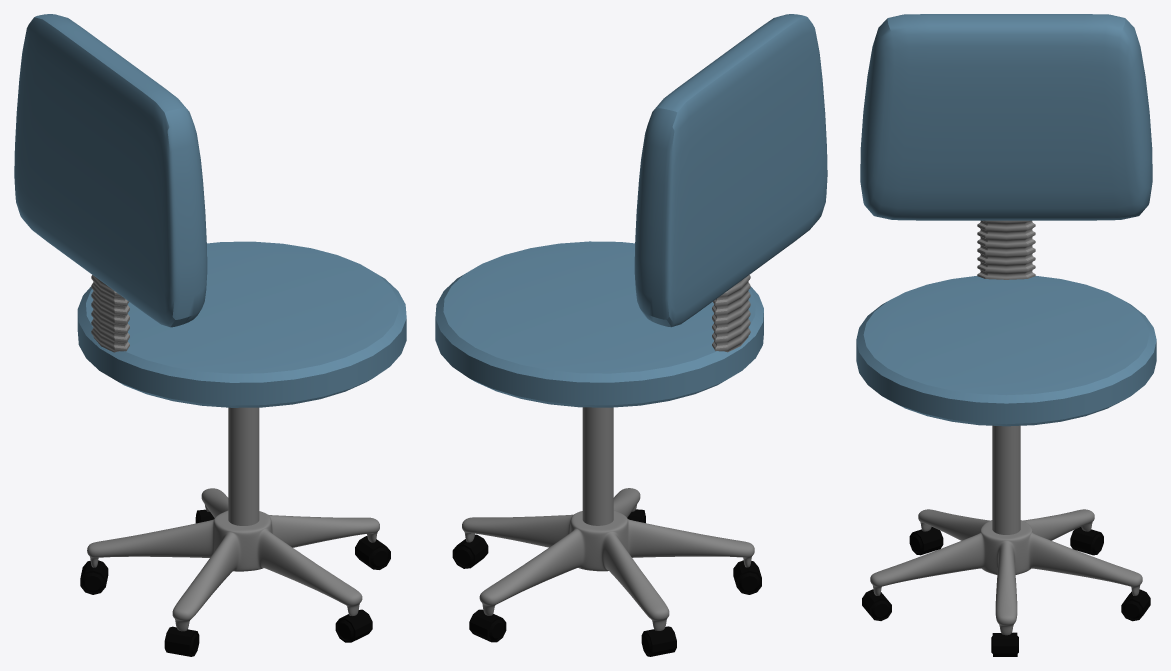
Rendered from ComputerChair.fbx.
3 views of the same model, side by side, from view 1: azimuth 30°, elevation 25°; view 2: azimuth 150°, elevation 25°; view 3: azimuth 270°, elevation 25° (orthographic). The views are drawn at different scales.
Visible parts, largest first — view 1: chair; view 2: chair; view 3: chair.
Part boxes in pixels (x1=…): chair: x1=14, y1=14, x2=406, y2=656; chair: x1=435, y1=14, x2=827, y2=656; chair: x1=856, y1=14, x2=1156, y2=656.
Bounding box in the file's own units: 53.12 × 99.01 × 51.75.
